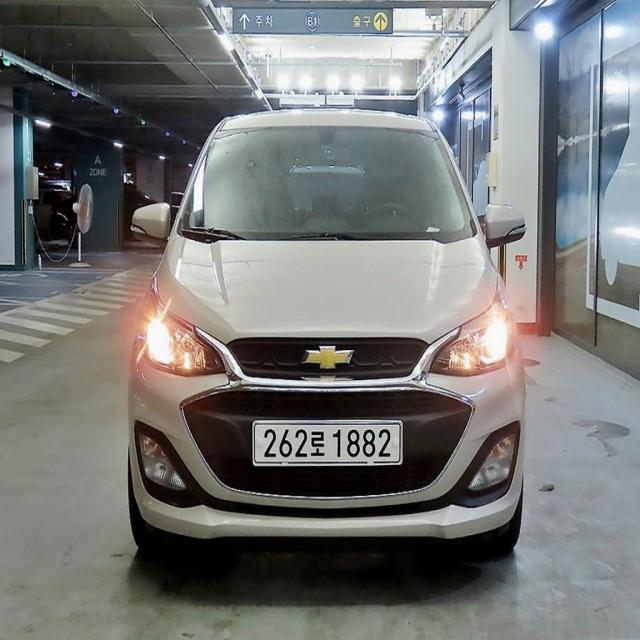car: (121, 104, 544, 573)
illegal_plate: (249, 416, 405, 474)
